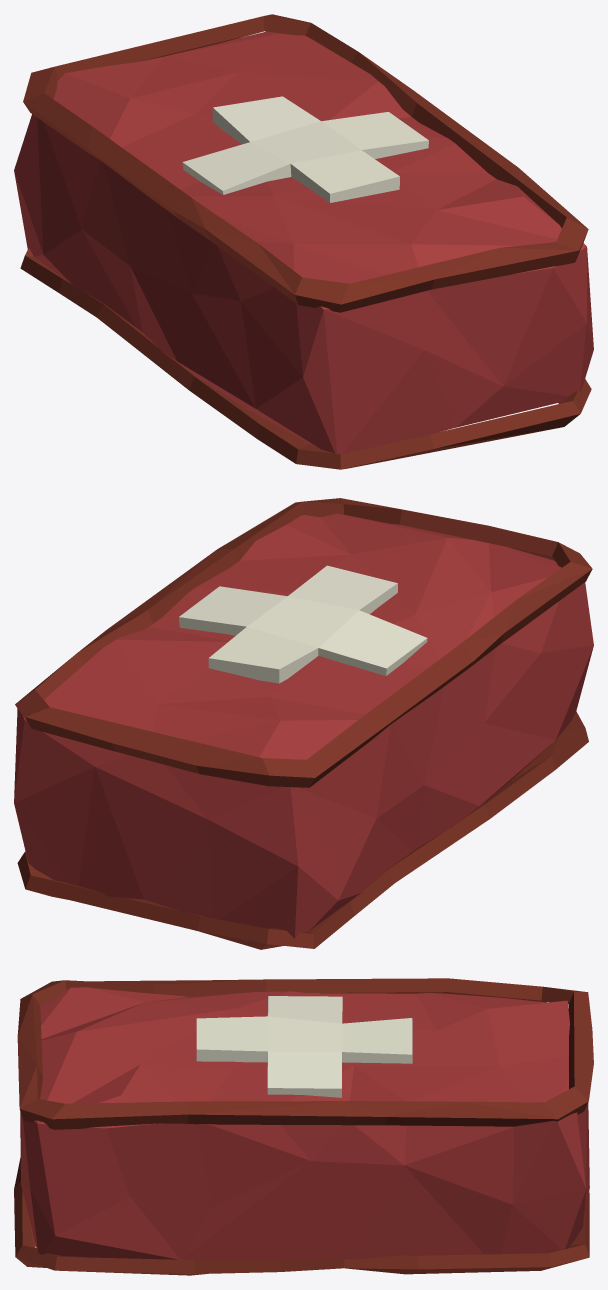
Rendered from Аптечка.fbx.
3 views of the same model, one above another, from view 1: azimuth 30°, elevation 25°; view 2: azimuth 150°, elevation 25°; view 3: azimuth 270°, elevation 25° (orthographic). The views are drawn at different scales.
Visible parts, largest first — view 1: Куб, Куб.003, Куб.001; view 2: Куб, Куб.003, Куб.001; view 3: Куб, Куб.003, Куб.001.
Part boxes in pixels (x1,y1,x2,y2): Куб: [14, 31, 593, 454]; Куб.003: [20, 14, 591, 469]; Куб.001: [182, 96, 428, 202]; Куб: [14, 513, 593, 938]; Куб.003: [15, 498, 592, 949]; Куб.001: [178, 565, 427, 683]; Куб: [20, 987, 589, 1259]; Куб.003: [14, 978, 593, 1275]; Куб.001: [196, 996, 412, 1097].
Bounding box in the file's own units: 207 × 131 × 371.
